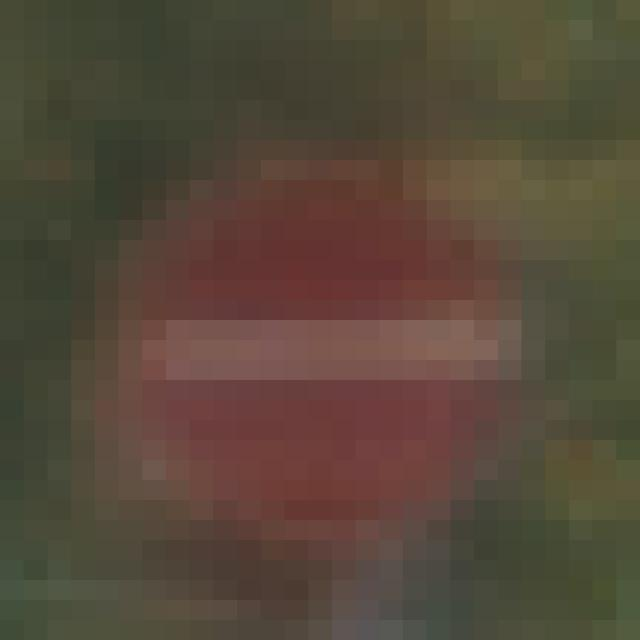No Entry: (120, 121, 523, 521)
